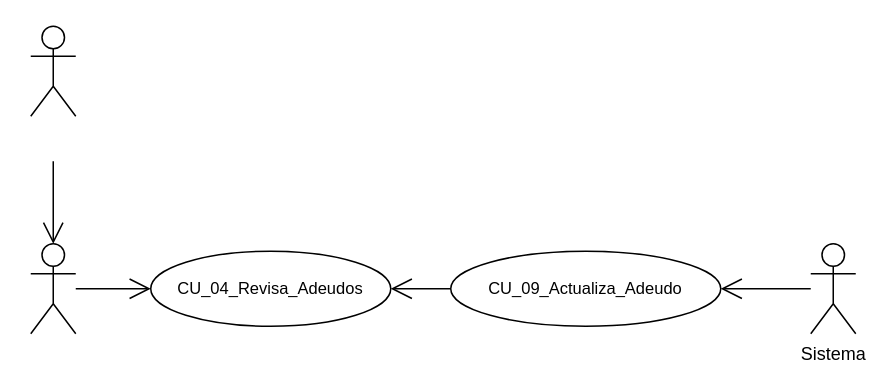
The diagram is 891 pixels wide and 392 high, and some of its shapes have lost their labels. Each missing label, with the centre of its shape:
Cajero: pixel 52 288
Cliente: pixel 52 70
